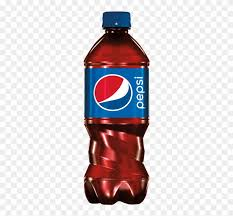bottle: (84, 12, 150, 206)
pepsi: (92, 71, 135, 113), (134, 74, 146, 114)
plastic: (84, 11, 150, 206)
